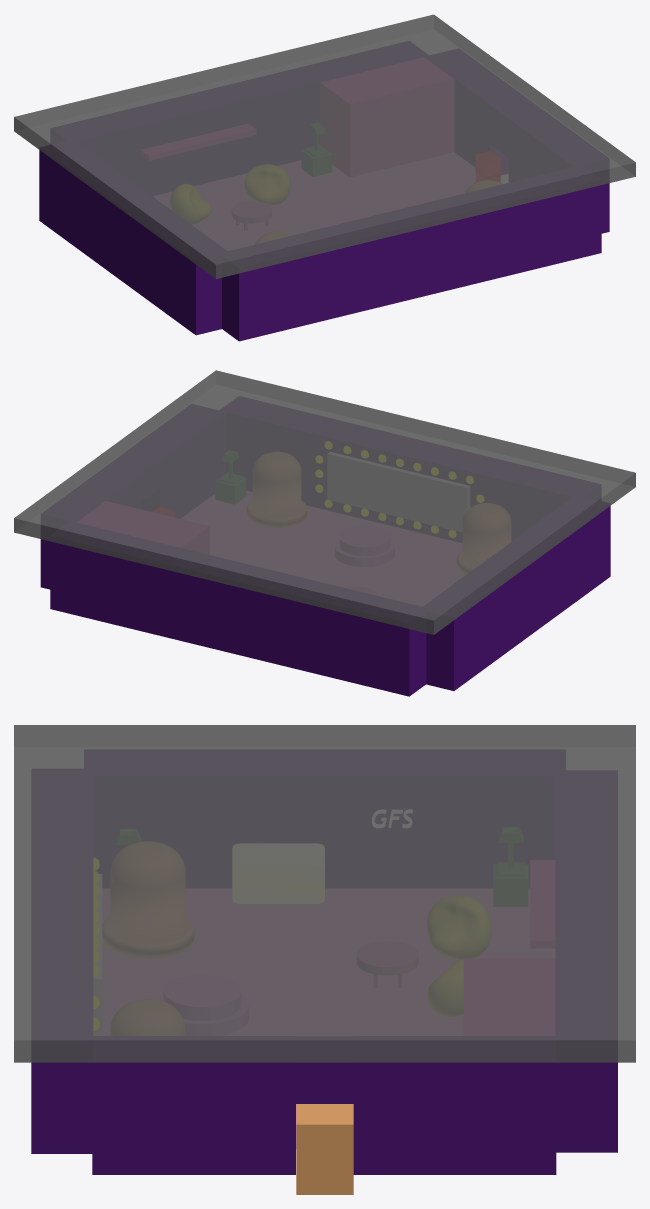
Rendered from Blocking_Camerino.fbx.
3 renders of one model, top to bottom at view 1: azimuth 30°, elevation 25°; view 2: azimuth 150°, elevation 25°; view 3: azimuth 270°, elevation 25°, orthographic. The views are drawn at different scales.
Parts seen in each view (by area): view 1: Camerinoblock; view 2: Camerinoblock; view 3: Camerinoblock.
Boxes of the visible parts, x1,y1,x2,y2 form: Camerinoblock: (14,14,635,341); Camerinoblock: (14,370,635,696); Camerinoblock: (14,725,635,1194).
Bounding box in the file's own units: 2549 × 492 × 2000.
